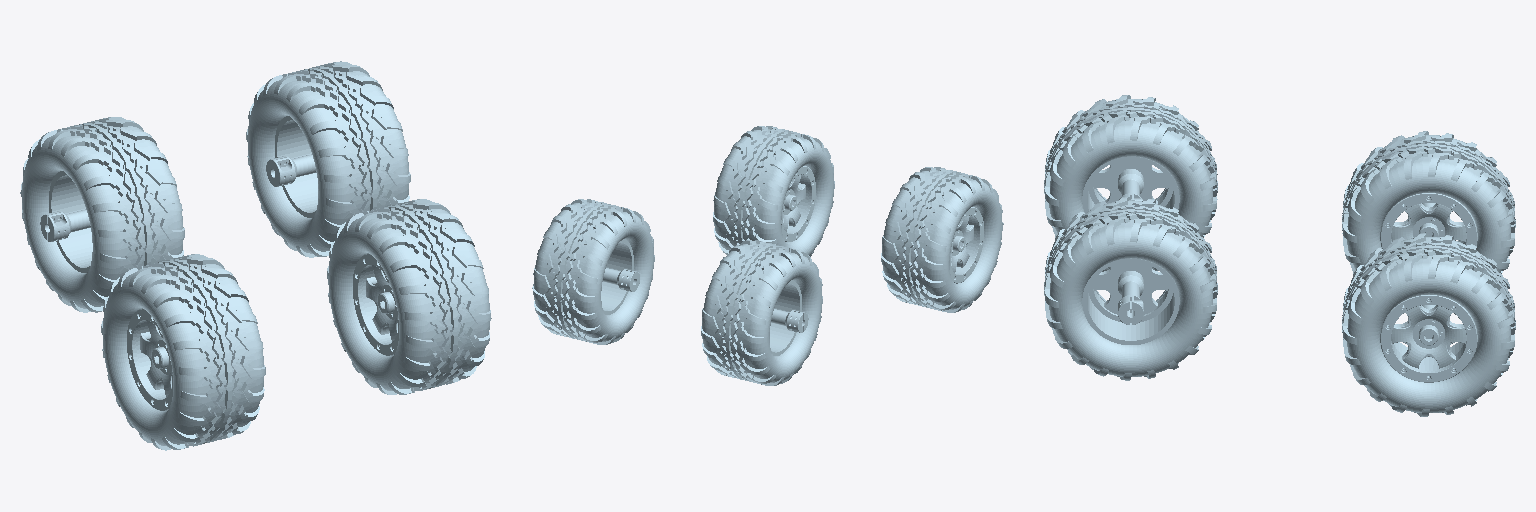
URDF robot description (Robot):
?<?xml version="1.0" encoding="utf-8"?>
<robot name="Robot">
  <material name="0.917647_0.917647_0.917647_0.000000_0.000000">
    <color rgba="0.9629 0.9629 0.9629 1" />
  </material>
  <material name="0.615686_0.811765_0.929412_0.000000_0.000000">
    <color rgba="0.807 0.9122 0.9683 1" />
  </material>
  <link name="base_link">
    <inertial>
      <origin rpy="0 0 0" xyz="0 0 -0.01" />
      <mass value="5" />
      <inertia ixx="1" ixy="0" ixz="0" iyy="1" iyz="0" izz="1" />
    </inertial>
    <visual>
      <origin rpy="0 1.570796 0" />
      <geometry>
        <mesh filename="package://Assets/Robot/URDF/meshes/A4WD3-NWheeled.stl" scale="1 1 1" />
      </geometry>
      <material name="0.917647_0.917647_0.917647_0.000000_0.000000" />
    </visual>
    <collision>
      <origin rpy="0 1.570796 0" />
      <geometry>
        <mesh filename="package://Assets/Robot/URDF/meshes/A4WD3-NWheeled.stl" scale="1 1 1" />
      </geometry>
    </collision>
  </link>
  <link name="front_left">
    <visual>
      <origin rpy="0 0 -3.141593" />
      <geometry>
        <mesh filename="package://Assets/Robot/URDF/meshes/A4WD3-Wheel.stl" scale="1 1 1" />
      </geometry>
      <material name="0.615686_0.811765_0.929412_0.000000_0.000000" />
    </visual>
  </link>
  <link name="front_right">
    <visual>
      <geometry>
        <mesh filename="package://Assets/Robot/URDF/meshes/A4WD3-Wheel.stl" scale="1 1 1" />
      </geometry>
      <material name="0.615686_0.811765_0.929412_0.000000_0.000000" />
    </visual>
  </link>
  <link name="back_left">
    <visual>
      <origin rpy="0 0 -3.141593" />
      <geometry>
        <mesh filename="package://Assets/Robot/URDF/meshes/A4WD3-Wheel.stl" scale="1 1 1" />
      </geometry>
      <material name="0.615686_0.811765_0.929412_0.000000_0.000000" />
    </visual>
  </link>
  <link name="back_right">
    <visual>
      <geometry>
        <mesh filename="package://Assets/Robot/URDF/meshes/A4WD3-Wheel.stl" scale="1 1 1" />
      </geometry>
      <material name="0.615686_0.811765_0.929412_0.000000_0.000000" />
    </visual>
  </link>
  <joint name="base_link_front_left_joint" type="fixed">
    <origin xyz="0.11 0.136 0.034" />
    <parent link="base_link" />
    <child link="front_left" />
  </joint>
  <joint name="base_link_front_right_joint" type="fixed">
    <origin xyz="0.11 -0.136 0.034" />
    <parent link="base_link" />
    <child link="front_right" />
  </joint>
  <joint name="base_link_back_left_joint" type="fixed">
    <origin xyz="-0.11 0.136 0.034" />
    <parent link="base_link" />
    <child link="back_left" />
  </joint>
  <joint name="base_link_back_right_joint" type="fixed">
    <origin xyz="-0.11 -0.136 0.034" />
    <parent link="base_link" />
    <child link="back_right" />
  </joint>
</robot>

--- Facts derived from the render (not from the file) ---
Views: 3 orthographic renders of the robot side by side, from view 1: azimuth 30°, elevation 25°; view 2: azimuth 150°, elevation 25°; view 3: azimuth 270°, elevation 25°.
Robot: Robot — 5 links, 4 joints (4 fixed); root link base_link; default pose: every joint at zero.
Links seen in each view (by area): view 1: back_right, front_right, front_left, back_left; view 2: front_left, back_right, back_left, front_right; view 3: front_left, front_right, back_right, back_left.
Boxes of the visible links, bbox=[...] form: back_right: bbox=[101, 254, 265, 450]; front_right: bbox=[327, 199, 491, 394]; front_left: bbox=[246, 61, 410, 257]; back_left: bbox=[20, 117, 184, 312]; front_left: bbox=[532, 199, 654, 344]; back_right: bbox=[881, 167, 1003, 312]; back_left: bbox=[701, 240, 822, 385]; front_right: bbox=[713, 126, 834, 256]; front_left: bbox=[1342, 233, 1515, 416]; front_right: bbox=[1044, 197, 1217, 380]; back_right: bbox=[1044, 95, 1217, 271]; back_left: bbox=[1342, 131, 1515, 273].
Size in the robot's own frame: 0.3824 by 0.43 by 0.158 metres.
4 mesh visuals loaded from 2 distinct referenced files (1 binary STL); not drawn: 1 (reference not matched to a file when rendering).